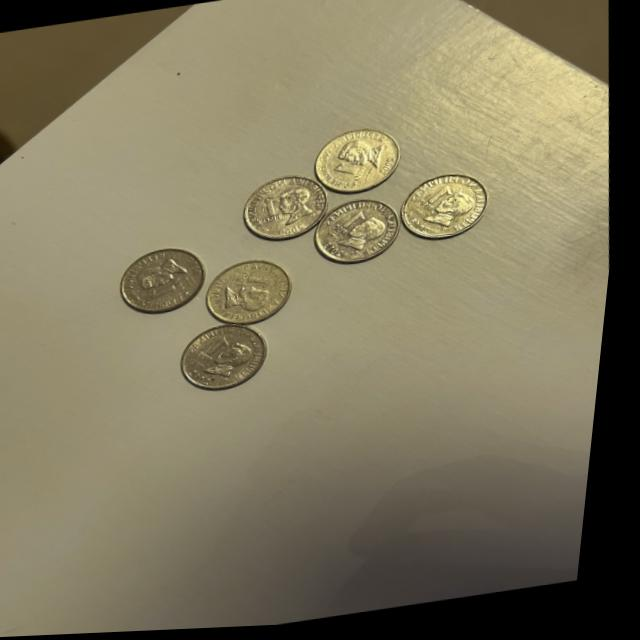1_Old_Front: (197, 332, 243, 368), (416, 184, 464, 218), (328, 209, 374, 241), (150, 274, 194, 305), (257, 194, 291, 230), (237, 269, 281, 295), (332, 162, 372, 187)
